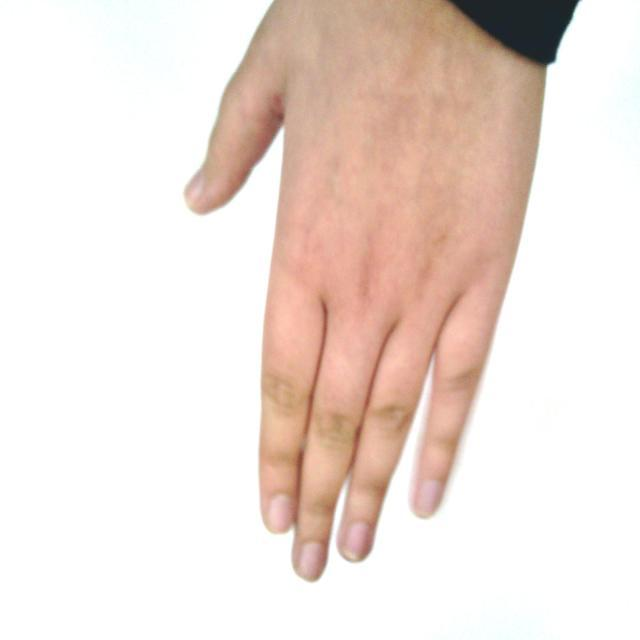Fingernail: (343, 523, 370, 560), (299, 543, 324, 582), (269, 496, 294, 534), (416, 481, 441, 517), (185, 172, 202, 202)
